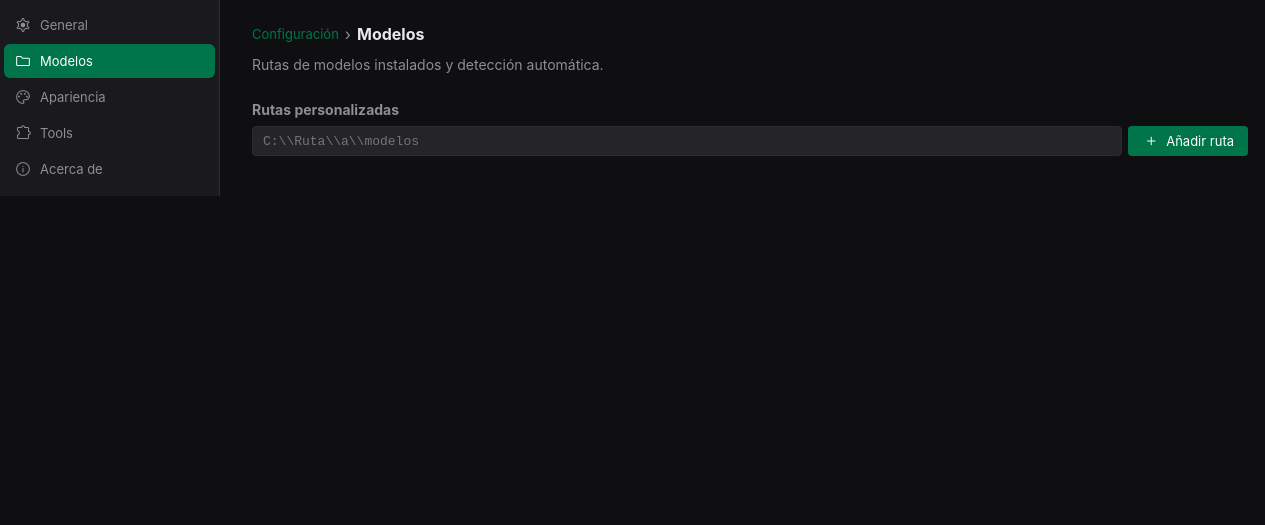
Test: SettingsView › renders Appearance tab
Click the button titled "Apariencia".
click(110, 97)  # box [4,80,215,114]
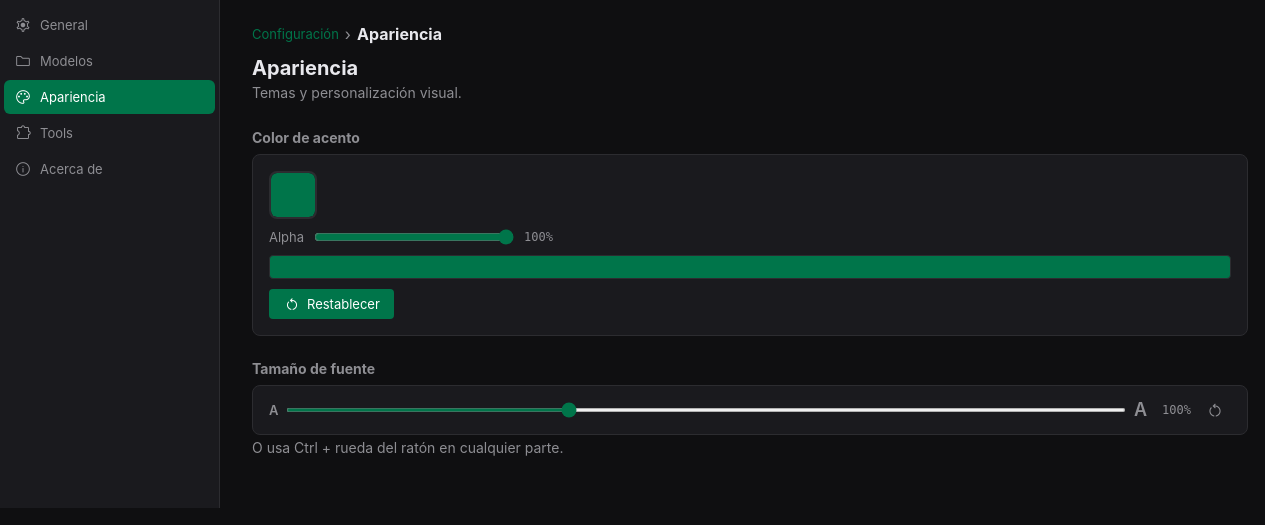
Expected: the heading "Color de acento" is shown, [252,129,360,146]
